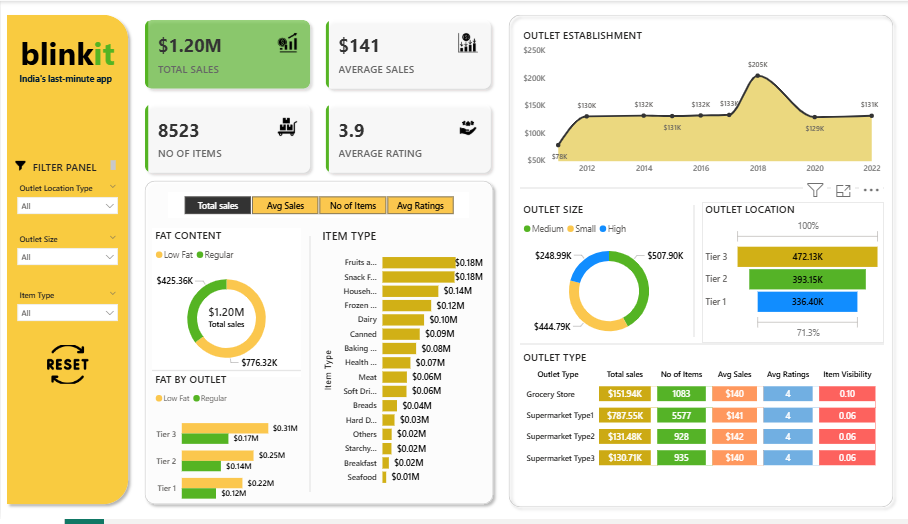

This screenshot's page, from the dashboard's own definition file:
{"tool":"powerbi","page":{"name":"Page 1","canvas":[1400,800],"ordinal":0},"visuals":[{"type":"shape","box":[0,12.4,205.4,773.7],"z":0},{"type":"textbox","box":[23.2,41.7,159.1,81.9],"z":1000},{"type":"textbox","box":[23.2,106.6,169.9,32.4],"z":2000},{"type":"cardVisual","fields":{"Data":["_Sales Measures.Total sales","_Sales Measures.Avg Sales","_Sales Measures.No of Items","_Sales Measures.Avg Ratings"]},"box":[205.4,12.4,569.9,270.3],"z":3000},{"type":"shape","box":[213.1,268.7,556,517.4],"z":4000},{"type":"donutChart","title":"FAT CONTENT","fields":{"Y":["_Sales Measures.Total sales"],"Category":["Blinkit Grocery Data.Item Fat Content"]},"box":[233.2,350.6,230.1,230.1],"z":5000},{"type":"slicer","fields":{"Values":["Metrics.Metrics"]},"box":[257.9,295,464.9,40.2],"z":6000},{"type":"cardVisual","fields":{"Data":["_Sales Measures.Total sales"]},"box":[298.1,451,100.4,68],"z":7000},{"type":"clusteredBarChart","title":"FAT BY OUTLET","fields":{"Y":["_Sales Measures.Total sales"],"Category":["Blinkit Grocery Data.Outlet Location Type"],"Series":["Blinkit Grocery Data.Item Fat Content"]},"box":[233.2,573,230.1,219.3],"z":8000},{"type":"shape","box":[233.2,563.7,230.1,13.9],"z":9000},{"type":"shape","box":[463.3,362.9,27.8,395.4],"z":10000},{"type":"barChart","title":"ITEM TYPE","fields":{"Y":["_Sales Measures.Total sales"],"Category":["Blinkit Grocery Data.Item Type"]},"box":[491.1,350.6,257.9,407.7],"z":11000},{"type":"shape","box":[775.3,12.4,611.6,778.4],"z":12000},{"type":"lineChart","title":"OUTLET ESTABLISHMENT","fields":{"Category":["Blinkit Grocery Data.Outlet Establishment Year"],"Y":["_Sales Measures.Total sales"]},"box":[801.5,41.7,562.2,234.7],"z":13000},{"type":"shape","box":[801.5,282.6,562.2,12.4],"z":14000},{"type":"donutChart","title":"OUTLET SIZE","fields":{"Y":["_Sales Measures.Total sales"],"Category":["Blinkit Grocery Data.Outlet Size"]},"box":[801.5,310.4,274.9,225.5],"z":15000},{"type":"funnel","title":"OUTLET LOCATION","fields":{"Category":["Blinkit Grocery Data.Outlet Location Type"],"Y":["Sum(Blinkit Grocery Data.Sales)"]},"box":[1082.6,310.4,281.1,217.8],"z":16000},{"type":"shape","box":[1062.5,315.1,15.4,203.9],"z":17000},{"type":"shape","box":[801.5,520.5,562.2,18.5],"z":18000},{"type":"pivotTable","title":"OUTLET TYPE","fields":{"Rows":["Blinkit Grocery Data.Outlet Type"],"Values":["_Sales Measures.Total sales","_Sales Measures.No of Items","_Sales Measures.Avg Sales","_Sales Measures.Avg Ratings","Avg(Blinkit Grocery Data.Item Visibility)"]},"box":[801.5,539,562.2,227],"z":19000},{"type":"slicer","fields":{"Values":["Blinkit Grocery Data.Outlet Location Type"]},"box":[15.4,274.9,174.5,78.8],"z":20000},{"type":"slicer","fields":{"Values":["Blinkit Grocery Data.Outlet Size"]},"box":[15.4,353.7,174.5,78.8],"z":21000},{"type":"slicer","fields":{"Values":["Blinkit Grocery Data.Item Type"]},"box":[15.4,440.2,174.5,78.8],"z":22000},{"type":"textbox","box":[23.2,240.9,159.1,27.8],"z":22001},{"type":"image","box":[15.4,239.4,29.3,29.3],"z":22002},{"type":"actionButton","box":[23.2,531.3,159.1,60.2],"z":22004}]}

Visuals, with their boxes in screenshot pixels (x1, y1, x2, y2), scaled from the page's 1400x800 canvas onto the 908x524 screenshot:
shape: {"x1": 0, "y1": 8, "x2": 133, "y2": 515}
textbox: {"x1": 15, "y1": 27, "x2": 118, "y2": 81}
textbox: {"x1": 15, "y1": 70, "x2": 125, "y2": 91}
cardVisual - _Sales Measures.Total sales x _Sales Measures.Avg Sales: {"x1": 133, "y1": 8, "x2": 503, "y2": 185}
shape: {"x1": 138, "y1": 176, "x2": 499, "y2": 515}
"FAT CONTENT" donutChart: {"x1": 151, "y1": 230, "x2": 300, "y2": 380}
slicer - Metrics.Metrics: {"x1": 167, "y1": 193, "x2": 469, "y2": 220}
cardVisual - _Sales Measures.Total sales: {"x1": 193, "y1": 295, "x2": 258, "y2": 340}
"FAT BY OUTLET" clusteredBarChart: {"x1": 151, "y1": 375, "x2": 300, "y2": 519}
shape: {"x1": 151, "y1": 369, "x2": 300, "y2": 378}
shape: {"x1": 300, "y1": 238, "x2": 319, "y2": 497}
"ITEM TYPE" barChart: {"x1": 319, "y1": 230, "x2": 486, "y2": 497}
shape: {"x1": 503, "y1": 8, "x2": 900, "y2": 518}
"OUTLET ESTABLISHMENT" lineChart: {"x1": 520, "y1": 27, "x2": 884, "y2": 181}
shape: {"x1": 520, "y1": 185, "x2": 884, "y2": 193}
"OUTLET SIZE" donutChart: {"x1": 520, "y1": 203, "x2": 698, "y2": 351}
"OUTLET LOCATION" funnel: {"x1": 702, "y1": 203, "x2": 884, "y2": 346}
shape: {"x1": 689, "y1": 206, "x2": 699, "y2": 340}
shape: {"x1": 520, "y1": 341, "x2": 884, "y2": 353}
"OUTLET TYPE" pivotTable: {"x1": 520, "y1": 353, "x2": 884, "y2": 502}
slicer - Blinkit Grocery Data.Outlet Location Type: {"x1": 10, "y1": 180, "x2": 123, "y2": 232}
slicer - Blinkit Grocery Data.Outlet Size: {"x1": 10, "y1": 232, "x2": 123, "y2": 283}
slicer - Blinkit Grocery Data.Item Type: {"x1": 10, "y1": 288, "x2": 123, "y2": 340}
textbox: {"x1": 15, "y1": 158, "x2": 118, "y2": 176}
image: {"x1": 10, "y1": 157, "x2": 29, "y2": 176}
actionButton: {"x1": 15, "y1": 348, "x2": 118, "y2": 387}
